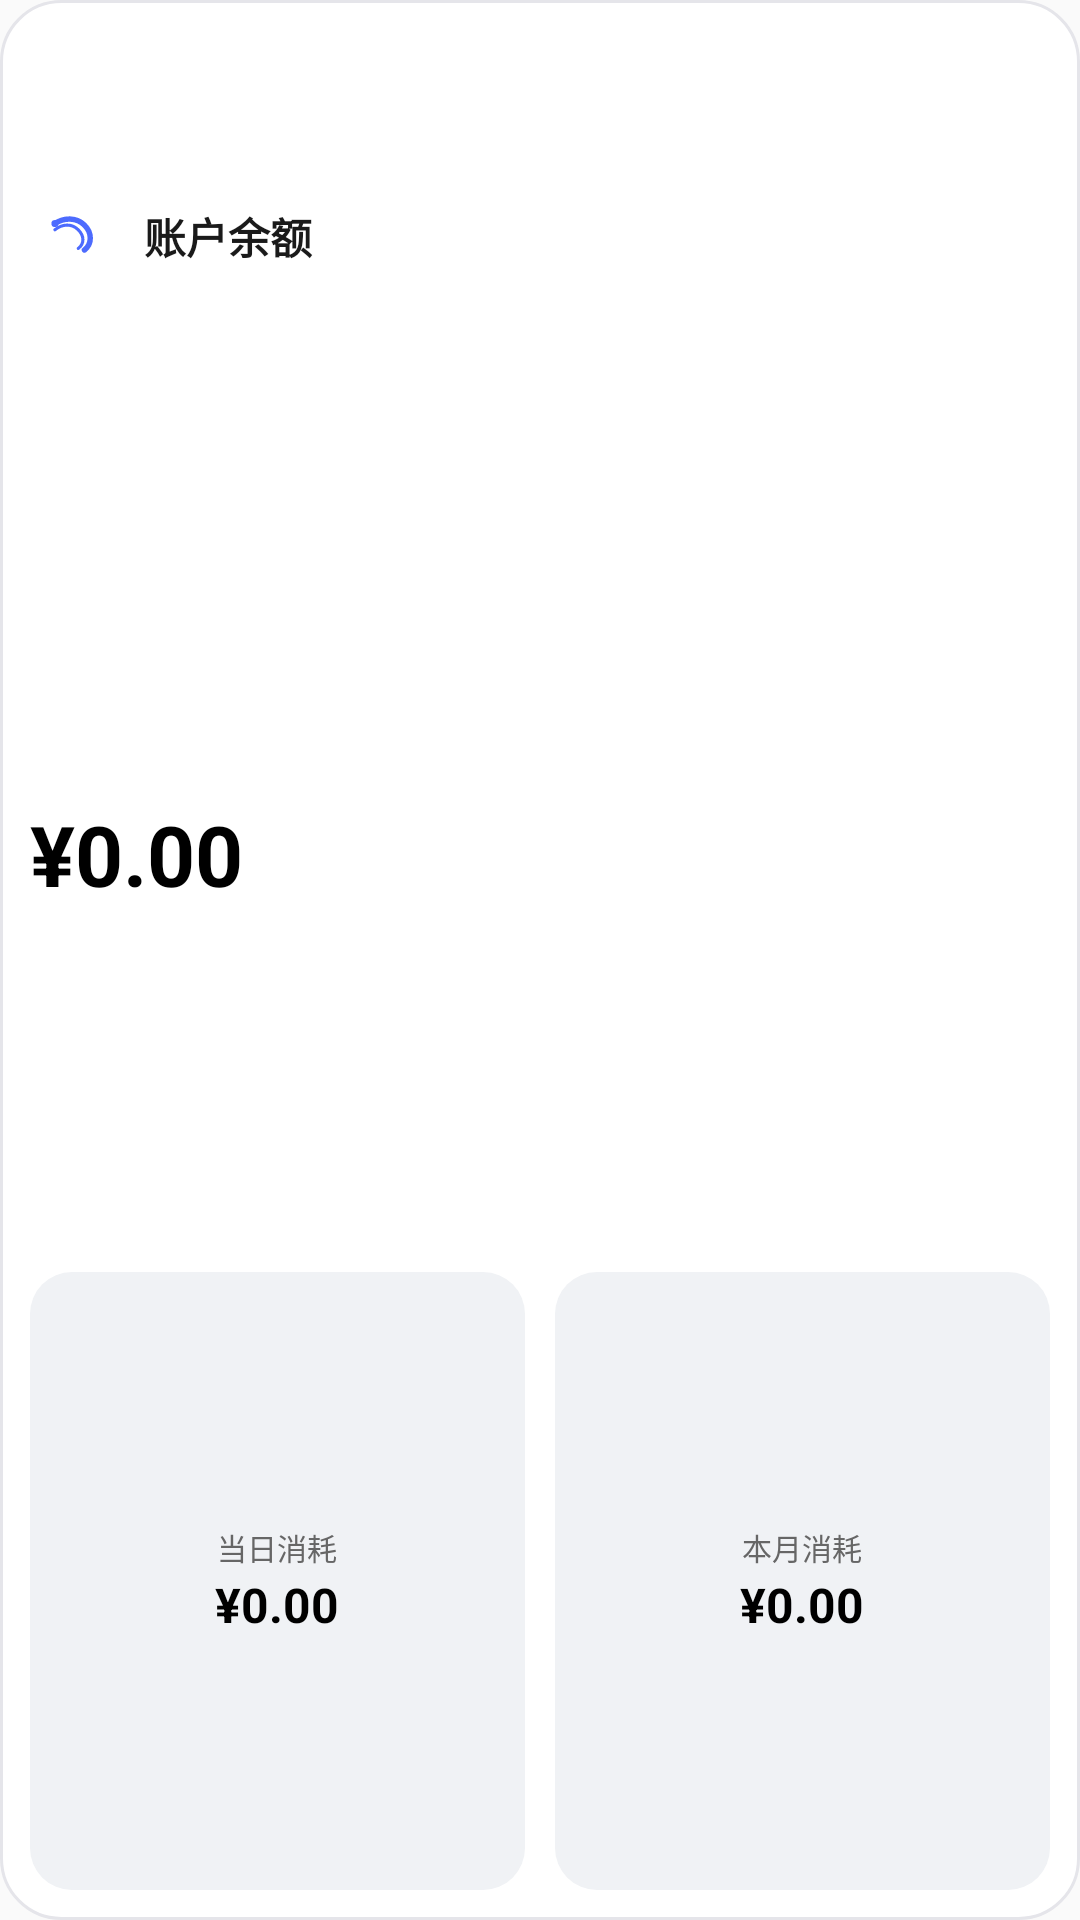

Named icons in this screenshot (1080px×1920px) and their bounding boxes, (x1, y1, x2, y2):
seekflow signal: (51, 216, 93, 253)
